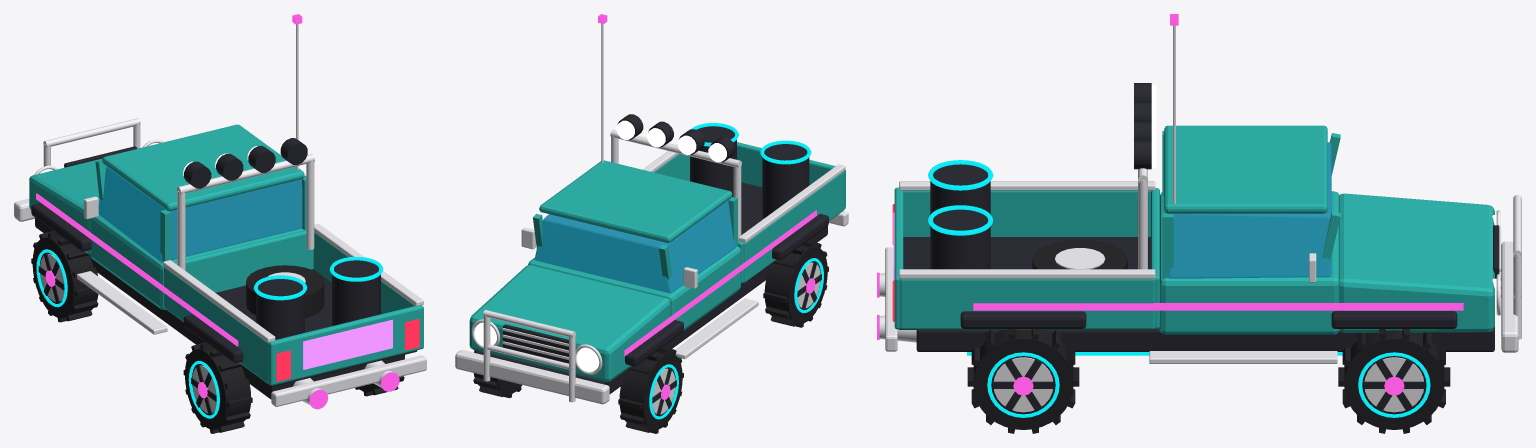
The model's file is dune_hauler.glb.
The picture shows the model from 3 angles, left to right: view 1: azimuth 30°, elevation 25°; view 2: azimuth 150°, elevation 25°; view 3: azimuth 270°, elevation 25°; orthographic projection. The views are drawn at different scales.
Parts seen in each view (by area): view 1: body, wheel_rl, wheel_fl; view 2: body, wheel_rl, wheel_fl, wheel_fr; view 3: body, wheel_rr, wheel_fr.
Boxes of the visible parts, x1,y1,x2,y2 form: body: (14, 14, 426, 409); wheel_rl: (183, 342, 252, 433); wheel_fl: (31, 231, 98, 322); body: (455, 14, 848, 404); wheel_rl: (763, 240, 828, 327); wheel_fl: (618, 347, 683, 433); wheel_fr: (473, 349, 522, 398); body: (877, 14, 1521, 363); wheel_rr: (967, 329, 1079, 433); wheel_fr: (1338, 329, 1450, 433).
Size of the model in its own units: 2.08 by 3.54 by 5.13.
